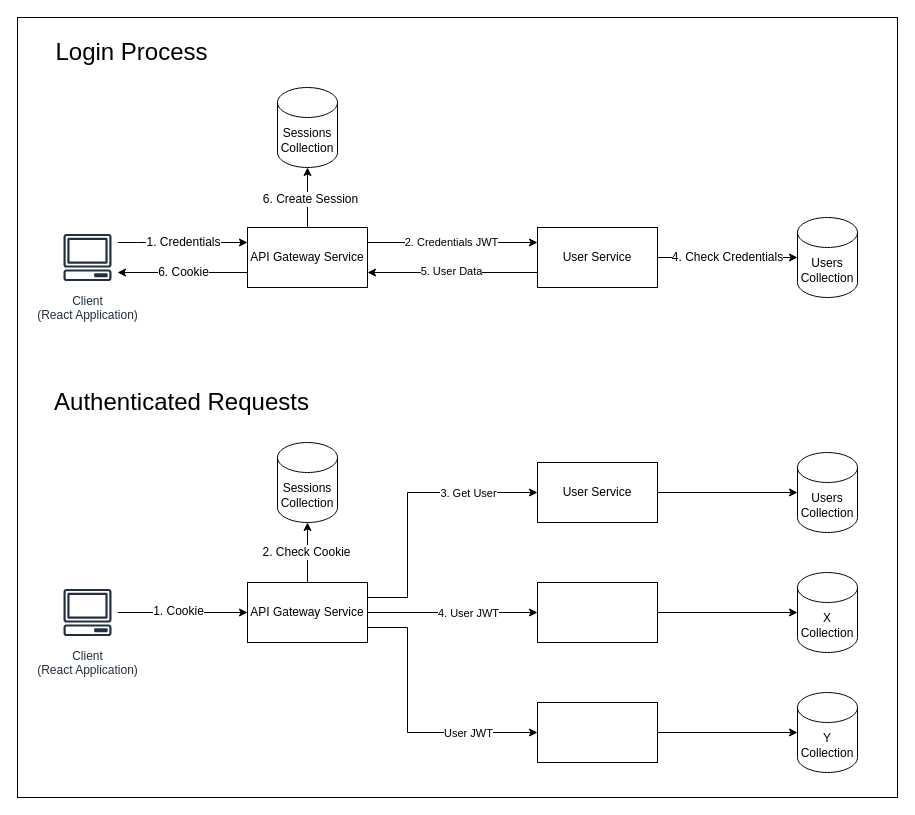
This 915x815 diagram has some shape labels left out. Each missing label, with the centre of its shape:
Service X: pixel 597 612
Service Y: pixel 597 732
